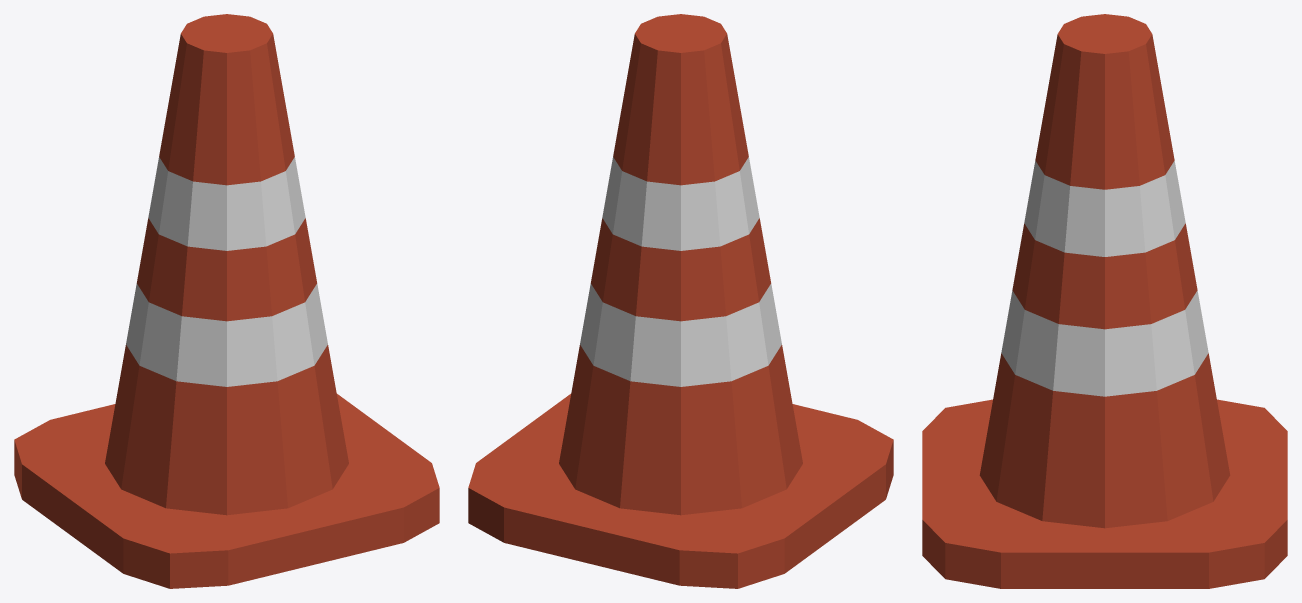
The model's file is traffic5.glb.
3 views of the same model, side by side, from view 1: azimuth 30°, elevation 25°; view 2: azimuth 150°, elevation 25°; view 3: azimuth 270°, elevation 25° (orthographic). The views are drawn at different scales.
Parts seen in each view (by area): view 1: ConeBig; view 2: ConeBig; view 3: ConeBig.
Boxes of the visible parts, x1=… form: ConeBig: x1=14, y1=14, x2=439, y2=588; ConeBig: x1=468, y1=14, x2=893, y2=588; ConeBig: x1=922, y1=14, x2=1287, y2=588.
Bounding box in the file's own units: 1.64 × 2.37 × 1.64.
